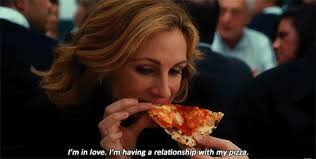pizza: (147, 103, 225, 143)
